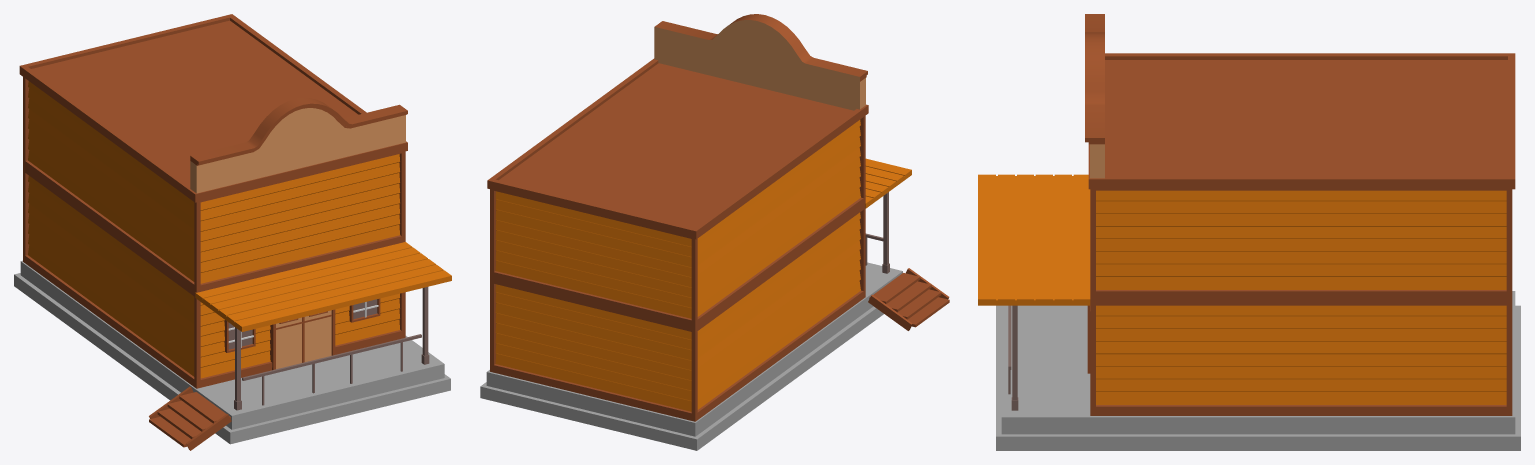
File: example.fbx
3 renders of one model, left to right at view 1: azimuth 30°, elevation 25°; view 2: azimuth 150°, elevation 25°; view 3: azimuth 270°, elevation 25°, orthographic. The views are drawn at different scales.
Visible parts, largest first — view 1: Plane.003, ROOF2, Plane.005, Plane.007, lv2ground, ROOF_A4, Plane:004, Plane.006, Plane.004, Plane.008, railing1, railing1.001 (+5 smaller); view 2: ROOF2, Plane.005, Plane.003, Plane.007, ROOF_A4, lv2ground, Plane.004, Plane.008, Plane.009, Plane.006, Plane.010, Plane.011; view 3: ROOF2, Plane.005, Plane.003, Plane.007, lv2ground, ROOF_A4, Plane.006.
Boxes of the visible parts, x1=… form: Plane.003: x1=23, y1=77, x2=405, y2=292; ROOF2: x1=19, y1=14, x2=407, y2=202; Plane.005: x1=23, y1=167, x2=405, y2=388; Plane.007: x1=14, y1=260, x2=450, y2=444; lv2ground: x1=195, y1=242, x2=451, y2=331; ROOF_A4: x1=190, y1=97, x2=407, y2=193; Plane:004: x1=270, y1=309, x2=335, y2=370; Plane.006: x1=234, y1=287, x2=429, y2=410; Plane.004: x1=179, y1=392, x2=230, y2=423; Plane.008: x1=167, y1=400, x2=212, y2=431; railing1: x1=242, y1=355, x2=333, y2=405; railing1.001: x1=331, y1=334, x2=421, y2=383; ROOF2: x1=487, y1=58, x2=868, y2=239; Plane.005: x1=490, y1=205, x2=865, y2=421; Plane.003: x1=490, y1=116, x2=865, y2=328; Plane.007: x1=480, y1=262, x2=902, y2=450; ROOF_A4: x1=654, y1=14, x2=867, y2=110; lv2ground: x1=865, y1=158, x2=911, y2=208; Plane.004: x1=869, y1=273, x2=920, y2=303; Plane.008: x1=886, y1=281, x2=931, y2=312; Plane.009: x1=897, y1=289, x2=941, y2=319; Plane.006: x1=882, y1=192, x2=889, y2=273; Plane.010: x1=908, y1=297, x2=949, y2=327; Plane.011: x1=868, y1=294, x2=912, y2=330; ROOF2: x1=1088, y1=53, x2=1515, y2=189; Plane.005: x1=1090, y1=300, x2=1512, y2=415; Plane.003: x1=1090, y1=189, x2=1512, y2=300; Plane.007: x1=996, y1=291, x2=1520, y2=450; lv2ground: x1=978, y1=174, x2=1090, y2=305; ROOF_A4: x1=1085, y1=14, x2=1104, y2=178; Plane.006: x1=1011, y1=305, x2=1018, y2=410.
Bounding box in the file's own units: 878 × 905 × 1283.
